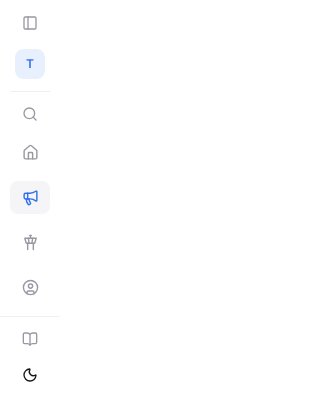
Test: collapsed AppSidebar flyout navigation (#823) › closes an open flyout when the route changes without a flyout selection
Press the mouse on the 4th button at [30, 242], box x1=10 y1=226 x2=50 y2=259
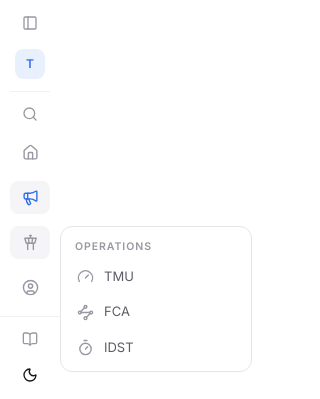
Result: the menu is shown at x1=60 y1=226 x2=252 y2=372
